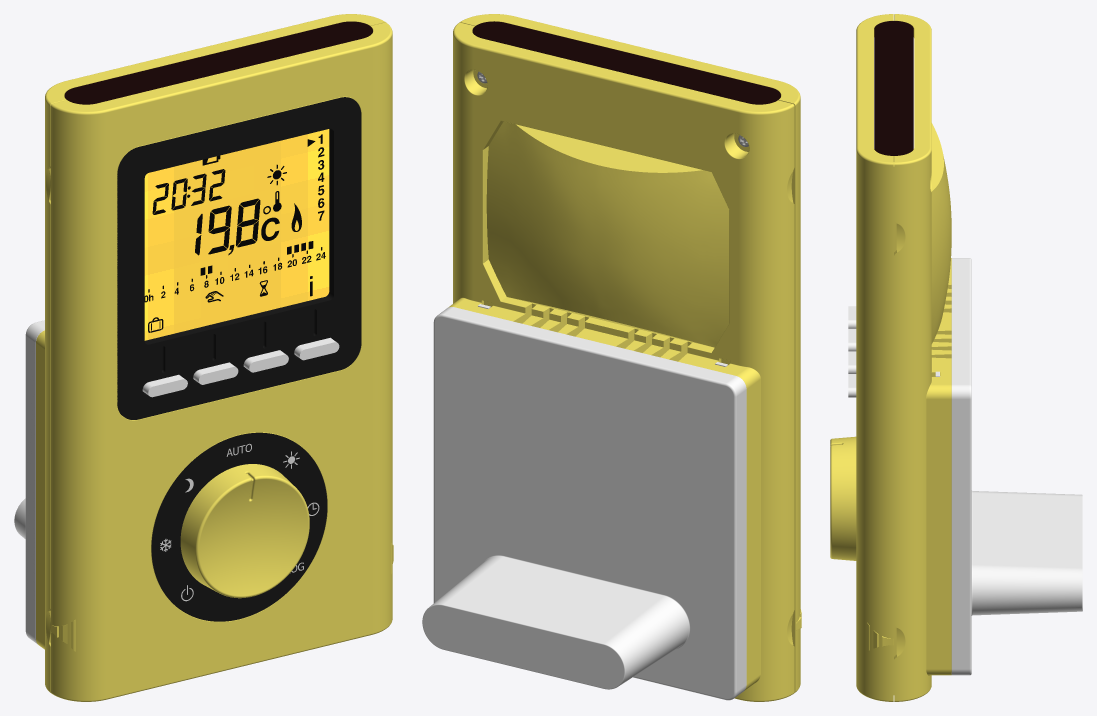
3 renders of one model, left to right at view 1: azimuth 30°, elevation 25°; view 2: azimuth 150°, elevation 25°; view 3: azimuth 270°, elevation 25°, orthographic. The views are drawn at different scales.
Parts seen in each view (by area): view 1: TTIR_obudowa, TTIR_ciemny_plastik, TTIR_lcd_tlo, TTIR_obudowa_emi, TTIR_lcd_symbols, TTIR_stopa, TTIR_przyciski; view 2: TTIR_obudowa, TTIR_stopa, TTIR_obudowa_emi; view 3: TTIR_obudowa, TTIR_stopa, TTIR_obudowa_emi, TTIR_przyciski.
Part boxes in pixels (box(x1,y1,x2,y2)): TTIR_obudowa: box(36, 14, 393, 701); TTIR_ciemny_plastik: box(117, 97, 361, 621); TTIR_lcd_tlo: box(144, 129, 329, 340); TTIR_obudowa_emi: box(64, 21, 372, 461); TTIR_lcd_symbols: box(144, 134, 325, 332); TTIR_stopa: box(14, 320, 44, 644); TTIR_przyciski: box(142, 337, 339, 397); TTIR_obudowa: box(448, 14, 801, 701); TTIR_stopa: box(422, 304, 746, 700); TTIR_obudowa_emi: box(472, 21, 780, 104); TTIR_obudowa: box(830, 14, 951, 701); TTIR_stopa: box(935, 258, 1082, 675); TTIR_obudowa_emi: box(874, 21, 913, 155); TTIR_przyciski: box(848, 306, 856, 397).
Bounding box in the file's own units: 8 × 13.4 × 5.68.
Materials: 10 (10 with a texture image).
